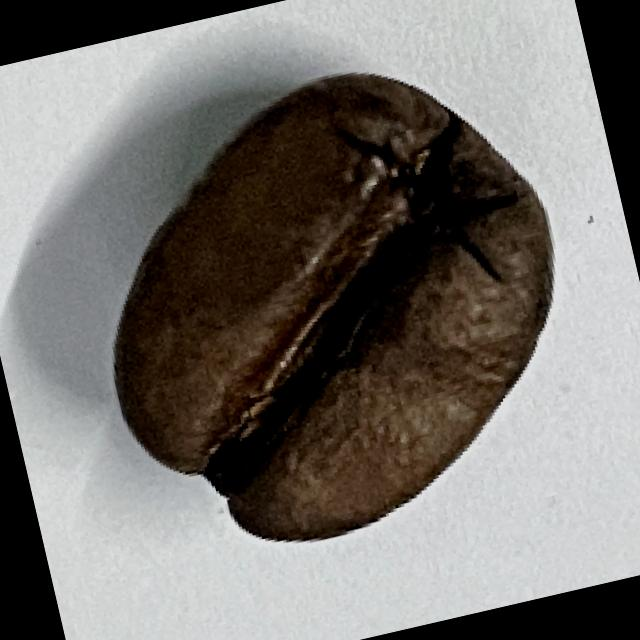bean: (54, 32, 612, 579)
